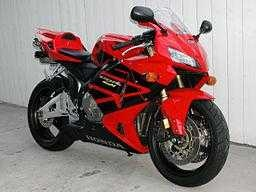motorcycle: (27, 5, 229, 187)
